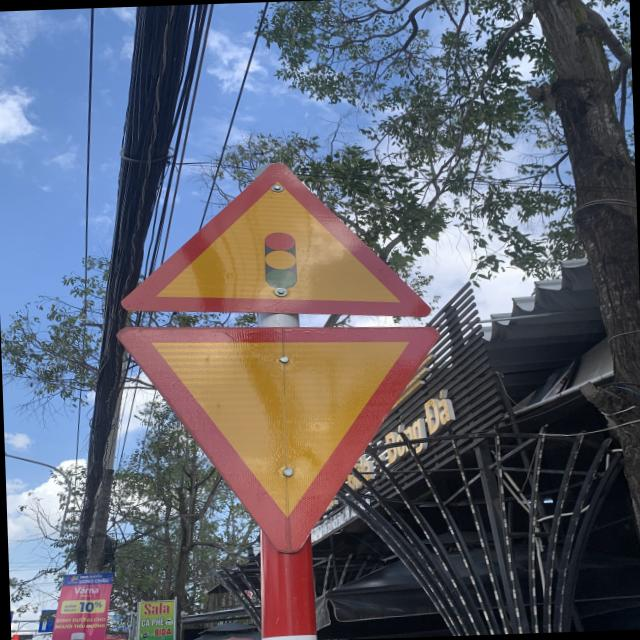Duong_Co_Go_Giam_Toc: (118, 158, 428, 328)
Gioi_Han_Toc_Do_25: (111, 314, 448, 557)
